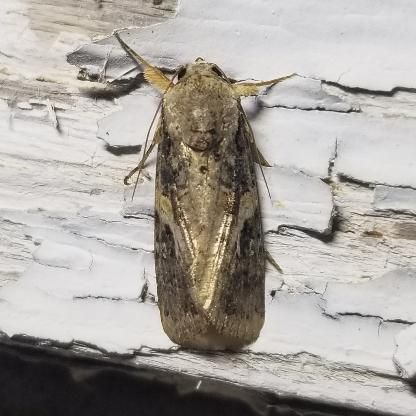Fall Armyworm Moth: (113, 30, 299, 348)
